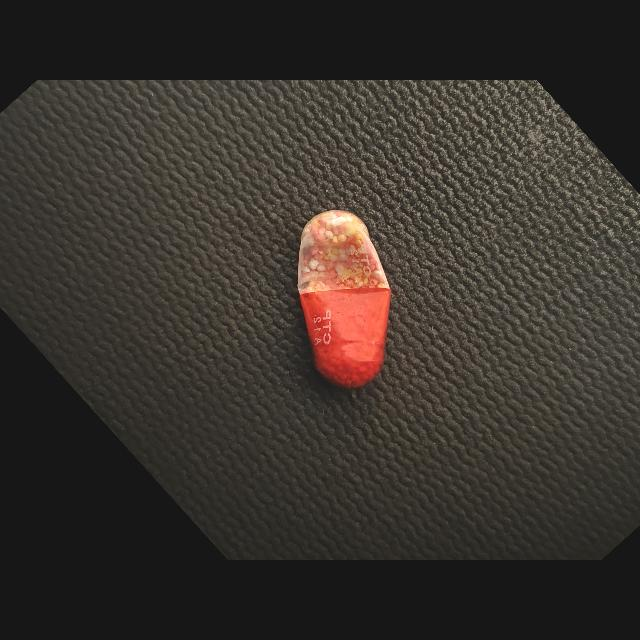Defective Capsule: (297, 210, 391, 388)
